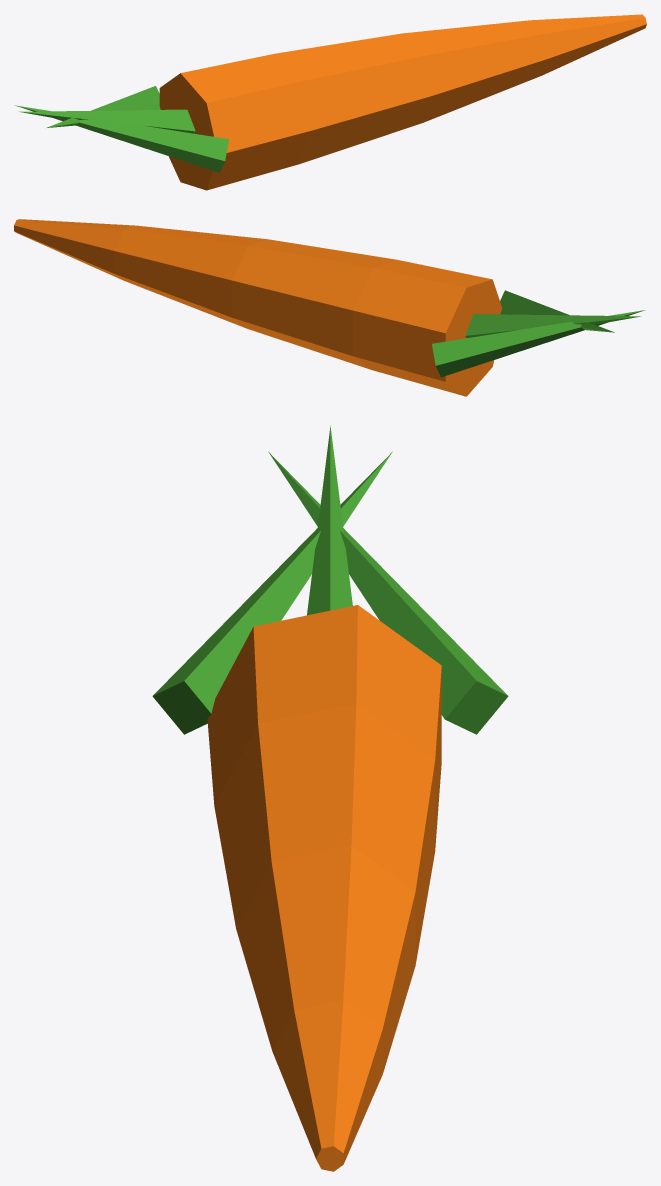
Rendered from carrot.glb.
3 views of the same model, one above another, from view 1: azimuth 30°, elevation 25°; view 2: azimuth 150°, elevation 25°; view 3: azimuth 270°, elevation 25° (orthographic). The views are drawn at different scales.
Parts seen in each view (by area): view 1: carrot; view 2: carrot; view 3: carrot.
Part boxes in pixels (bbox=[...]): carrot: bbox=[15, 14, 646, 190]; carrot: bbox=[14, 219, 645, 396]; carrot: bbox=[152, 425, 508, 1171].
Size of the model in its own units: 0.1987 by 0.0354 by 0.049.
